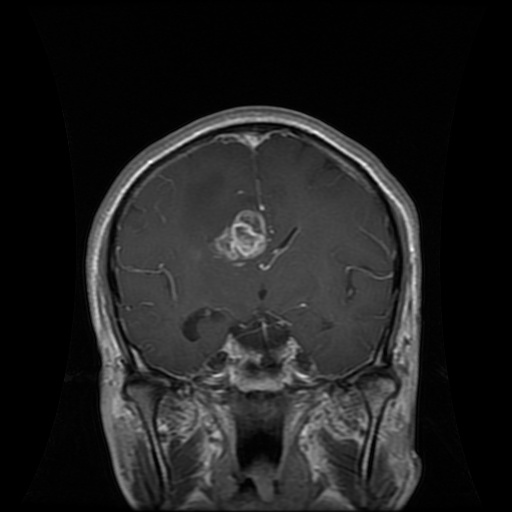glioma: (204, 204, 272, 267)
